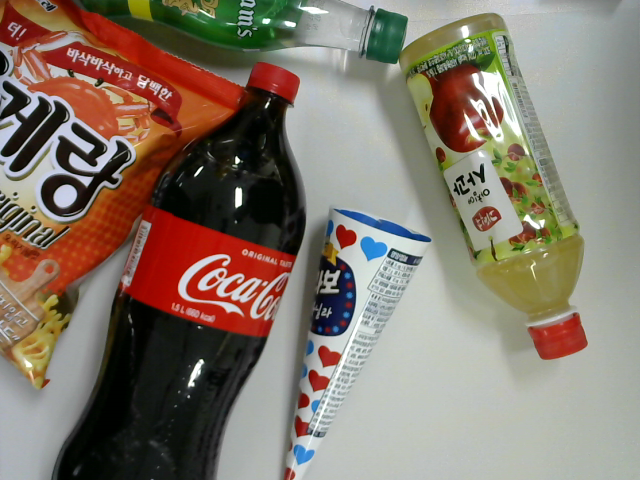Bravo_Cone_(Banila)_CVS: (269, 206, 441, 480)
Coca_Cola_1.5L: (40, 62, 309, 480)
Crabrang: (2, 1, 254, 402)
Morning_Apple_500ml: (392, 7, 610, 366)
Seagram_Lemon_Carbonated_Water: (59, 1, 417, 68)
